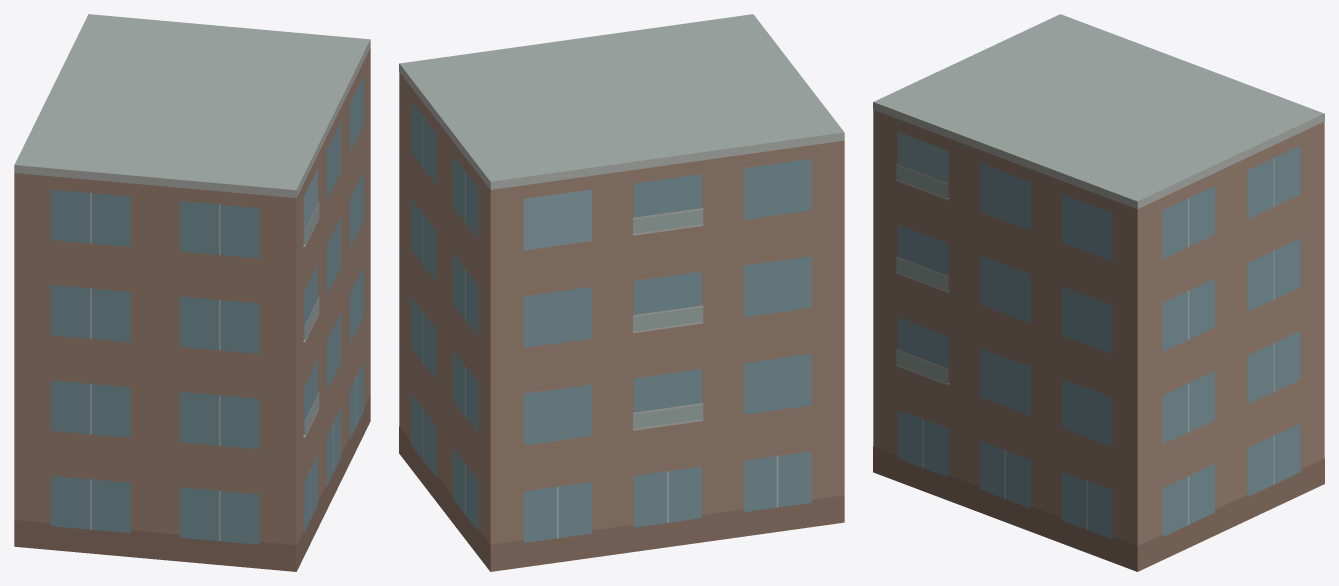
Rendered from survey-upis-32712100.glb.
The picture shows the model from 3 angles, left to right: view 1: azimuth 30°, elevation 25°; view 2: azimuth 150°, elevation 25°; view 3: azimuth 270°, elevation 25°; orthographic projection. The views are drawn at different scales.
Parts seen in each view (by area): view 1: survey-upis-32712100.tmp; view 2: survey-upis-32712100.tmp; view 3: survey-upis-32712100.tmp.
Part boxes in pixels (box(x1,y1,x2,y2)): survey-upis-32712100.tmp: box(14, 14, 370, 571); survey-upis-32712100.tmp: box(399, 14, 844, 571); survey-upis-32712100.tmp: box(873, 14, 1324, 571).
Bounding box in the file's own units: 12.71 × 11.7 × 12.93.
